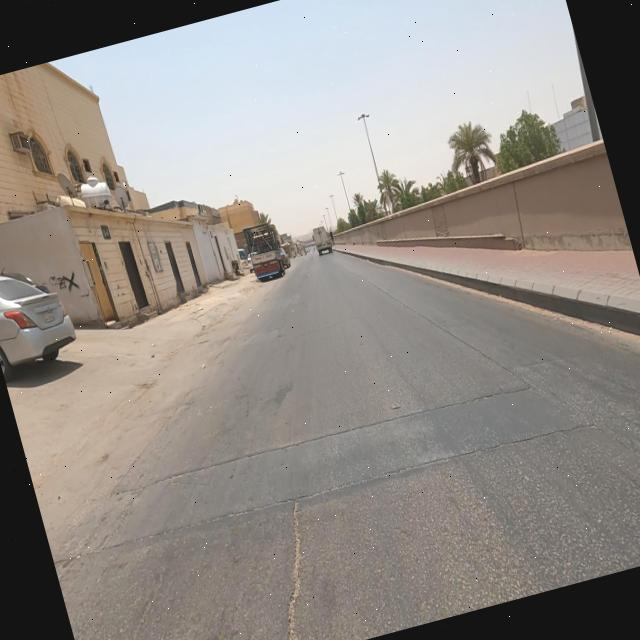Graffiti: (49, 267, 80, 297)
